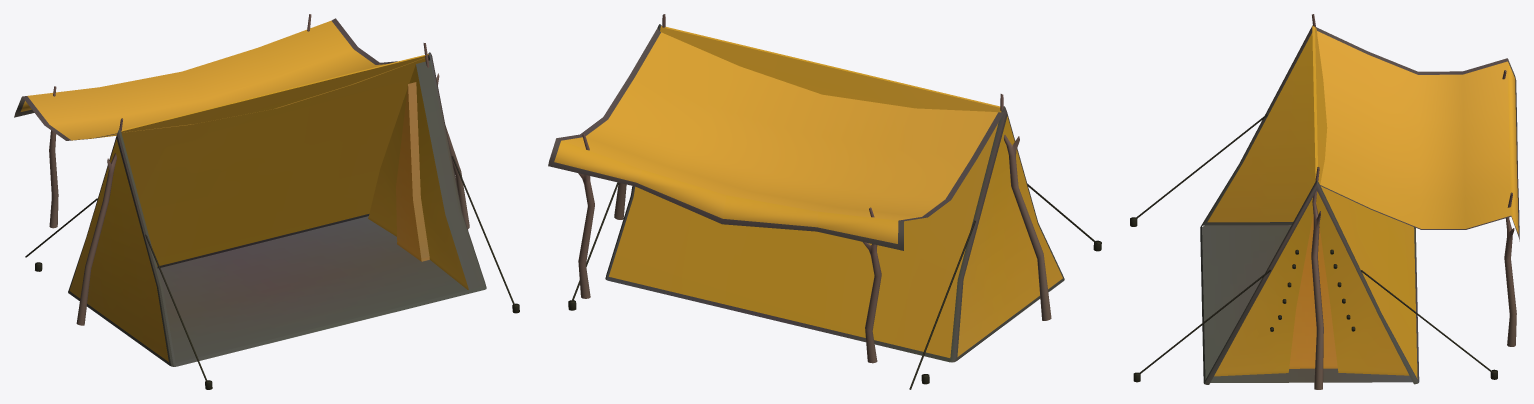
File: Open_Tent.fbx
The picture shows the model from 3 angles, left to right: view 1: azimuth 30°, elevation 25°; view 2: azimuth 150°, elevation 25°; view 3: azimuth 270°, elevation 25°; orthographic projection. The views are drawn at different scales.
Visible parts, largest first — view 1: polySurface17; view 2: polySurface17; view 3: polySurface17.
Part boxes in pixels (x1,y1,x2,y2): polySurface17: (14,14,519,389); polySurface17: (548,14,1101,389); polySurface17: (1130,14,1519,389).
Size of the model in its own units: 834 by 419 by 693.
